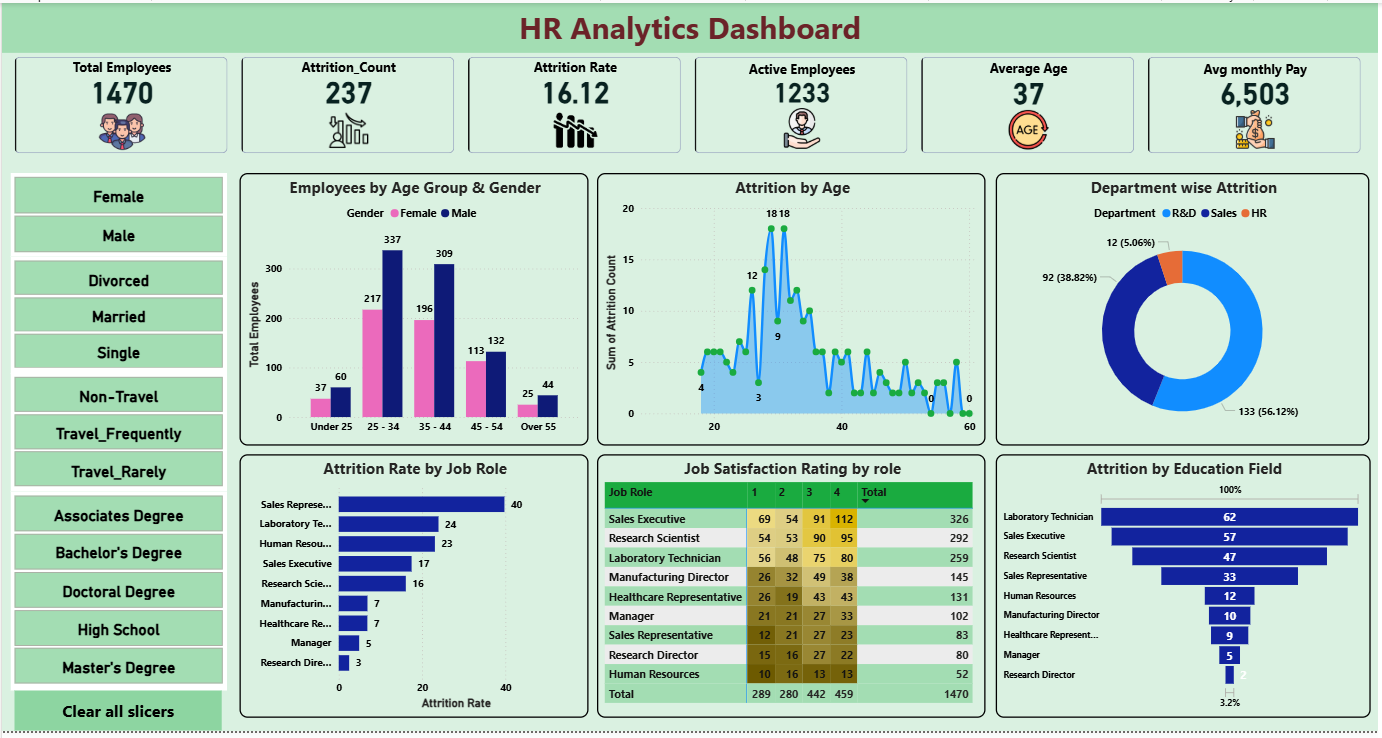

The page's visual inventory and layout, read from the dashboard file:
{"tool":"powerbi","page":{"name":"Page 1","canvas":[1700,900],"ordinal":0},"visuals":[{"type":"cardVisual","fields":{"Data":["HR data.Total Employees","HR data.Attrition_Count","HR data.Attrition Rate","HR data.Active Employees","HR data.Average Age","HR data.Avg monthly Pay"]},"box":[10.8,61.8,1678.7,129.7],"z":0},{"type":"textbox","box":[0,0,1700.3,61.8],"z":1000},{"type":"clusteredColumnChart","title":"Employees by Age Group & Gender","fields":{"Y":["HR data.Total Employees"],"Category":["HR data.Age Group"],"Series":["HR data.Gender"]},"box":[293.4,210,430.9,336.7],"z":2000},{"type":"areaChart","title":"Attrition by Age","fields":{"Category":["HR data.Age"],"Y":["Sum(HR data.Attrition Count)"]},"box":[735.1,210,480.3,336.7],"z":3000},{"type":"donutChart","title":"Department wise Attrition","fields":{"Category":["HR data.Department"],"Y":["Sum(HR data.Attrition Count)"]},"box":[1227.7,210,461.8,336.7],"z":4000},{"type":"barChart","fields":{"Category":["HR data.Job Role"],"Y":["HR data.Attrition Rate"]},"box":[293.4,557.5,430.9,325.9],"z":5000},{"type":"pivotTable","title":"Job Satisfaction Rating by role","fields":{"Rows":["HR data.Job Role"],"Columns":["HR data.Job Satisfaction"],"Values":["HR data.Total Employees"]},"box":[735.1,557.5,480.3,325.9],"z":6000},{"type":"funnel","title":"Attrition by Education Field","fields":{"Category":["HR data.Job Role"],"Y":["HR data.Attrition_Count"]},"box":[1227.7,557.5,463,325.9],"z":7000},{"type":"advancedSlicerVisual","fields":{"Values":["HR data.Gender"]},"box":[10.8,210,267.2,103.5],"z":8000},{"type":"advancedSlicerVisual","fields":{"Values":["HR data.Marital Status"]},"box":[10.8,313.5,267.2,143.6],"z":9000},{"type":"advancedSlicerVisual","fields":{"Values":["HR data.Business Travel"]},"box":[10.8,457.1,267.2,146.7],"z":10000},{"type":"advancedSlicerVisual","fields":{"Values":["HR data.Education"]},"box":[10.8,603.8,267.2,245.5],"z":11000},{"type":"actionButton","box":[15.4,849.4,256.4,49.4],"z":12000}]}

Visuals, with their boxes in screenshot pixels (x1, y1, x2, y2), scaled from the page's 1700x900 canvas onto the 1382x738 screenshot:
cardVisual - HR data.Total Employees x HR data.Attrition_Count: [x1=9, y1=51, x2=1373, y2=157]
textbox: [x1=0, y1=0, x2=1381, y2=51]
"Employees by Age Group & Gender" clusteredColumnChart: [x1=239, y1=172, x2=589, y2=448]
"Attrition by Age" areaChart: [x1=598, y1=172, x2=988, y2=448]
"Department wise Attrition" donutChart: [x1=998, y1=172, x2=1373, y2=448]
barChart - HR data.Job Role x HR data.Attrition Rate: [x1=239, y1=457, x2=589, y2=724]
"Job Satisfaction Rating by role" pivotTable: [x1=598, y1=457, x2=988, y2=724]
"Attrition by Education Field" funnel: [x1=998, y1=457, x2=1374, y2=724]
advancedSlicerVisual - HR data.Gender: [x1=9, y1=172, x2=226, y2=257]
advancedSlicerVisual - HR data.Marital Status: [x1=9, y1=257, x2=226, y2=375]
advancedSlicerVisual - HR data.Business Travel: [x1=9, y1=375, x2=226, y2=495]
advancedSlicerVisual - HR data.Education: [x1=9, y1=495, x2=226, y2=696]
actionButton: [x1=13, y1=697, x2=221, y2=737]
